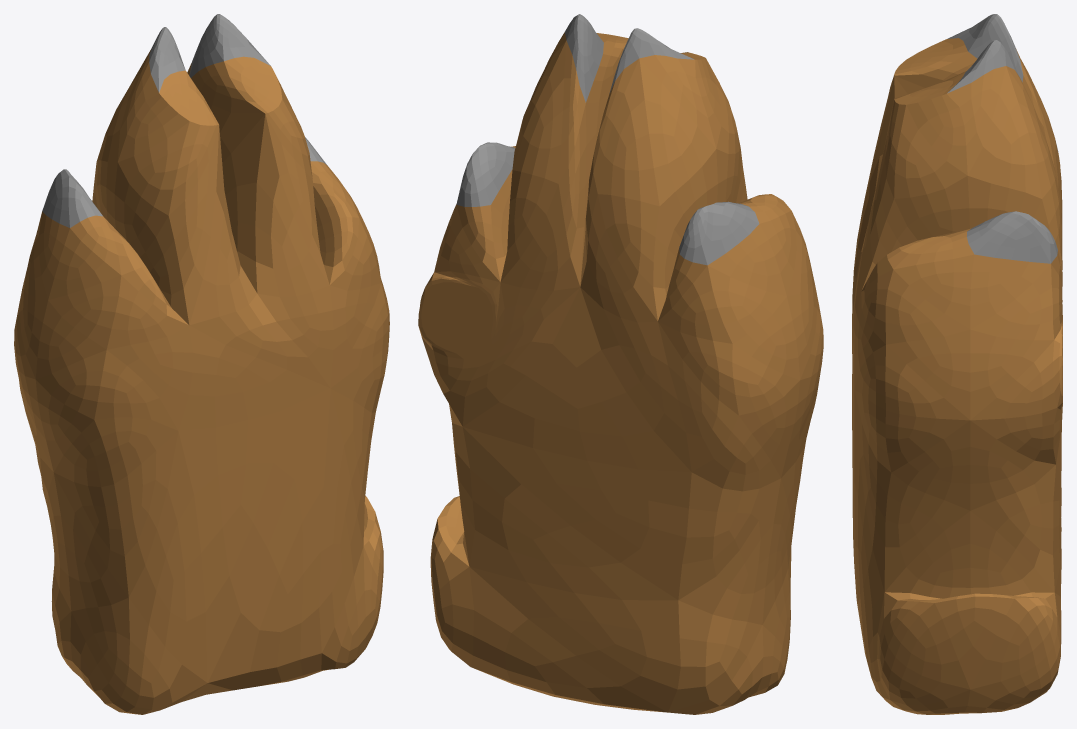
File: paw_MIRROR.fbx
The picture shows the model from 3 angles, left to right: view 1: azimuth 30°, elevation 25°; view 2: azimuth 150°, elevation 25°; view 3: azimuth 270°, elevation 25°; orthographic projection. The views are drawn at different scales.
Parts seen in each view (by area): view 1: Cube; view 2: Cube; view 3: Cube.
Part boxes in pixels (bbox=[...]): Cube: bbox=[14, 14, 389, 714]; Cube: bbox=[418, 14, 823, 714]; Cube: bbox=[852, 14, 1062, 714].
Size of the model in its own units: 334 by 616 by 186.
